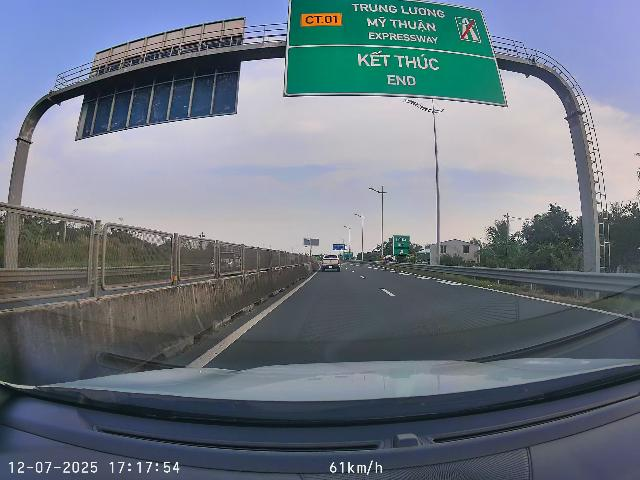438-ket-thuc-duong-cao-toc: (455, 17, 482, 44)
